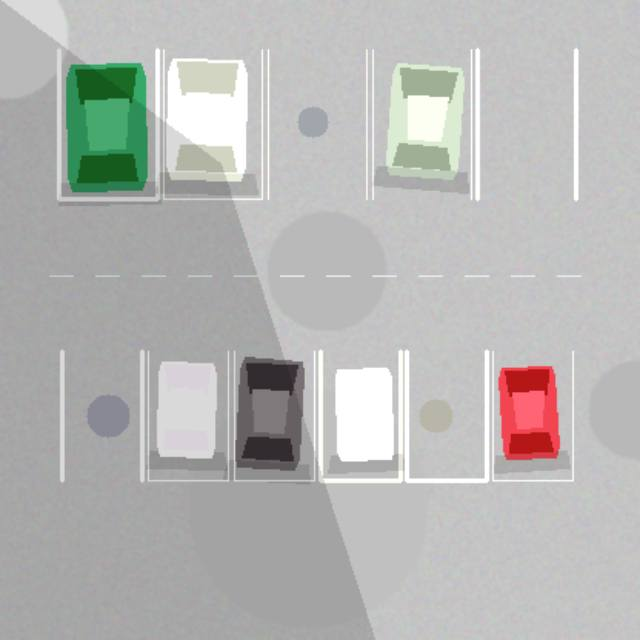space-empty: (268, 49, 366, 198), (477, 49, 575, 198), (62, 351, 142, 480), (406, 351, 486, 480)
space-occupied: (58, 49, 157, 198), (163, 49, 262, 198), (372, 49, 471, 198), (148, 351, 228, 480), (234, 351, 314, 480), (320, 351, 400, 480), (492, 351, 572, 480)
